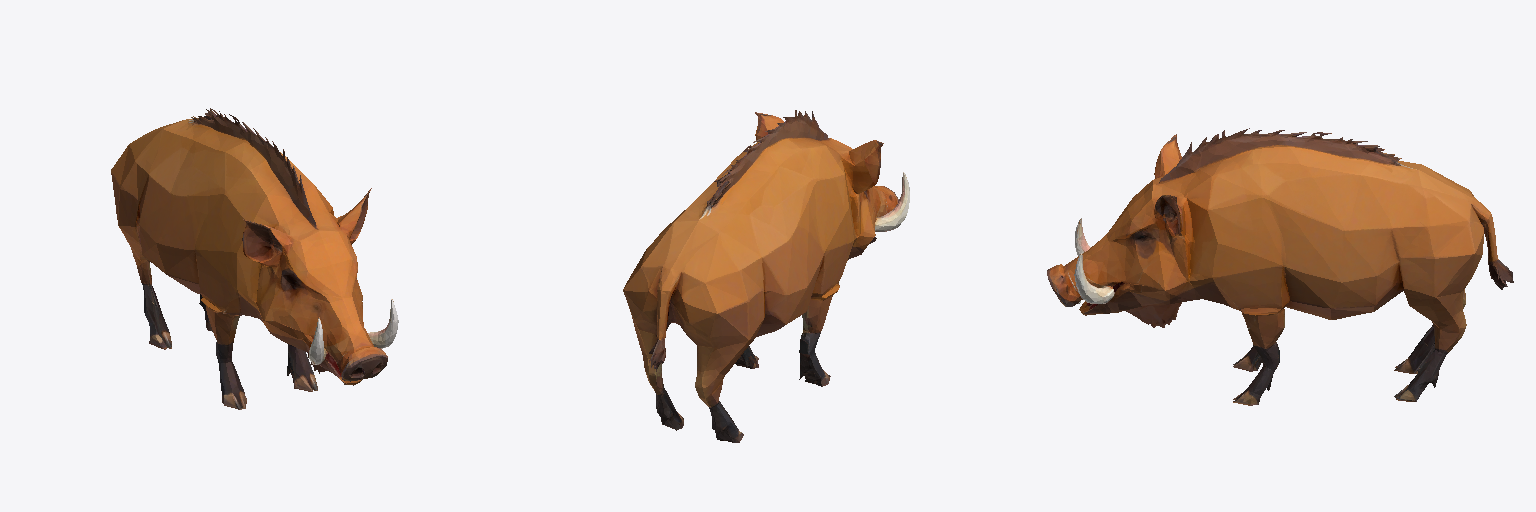
3 renders of one model, left to right at view 1: azimuth 30°, elevation 25°; view 2: azimuth 150°, elevation 25°; view 3: azimuth 270°, elevation 25°, orthographic.
Visible parts, largest first — view 1: brown_colored_low_pol_[number redacted]_texture; view 2: brown_colored_low_pol_[number redacted]_texture; view 3: brown_colored_low_pol_[number redacted]_texture.
Part boxes in pixels (x1,y1,x2,y2): brown_colored_low_pol_[number redacted]_texture: (111,108,398,409); brown_colored_low_pol_[number redacted]_texture: (623,110,909,442); brown_colored_low_pol_[number redacted]_texture: (1047,128,1513,405).
Bounding box in the file's own units: 0.6817 × 1.2 × 1.99.
1 materials, 1 textured.